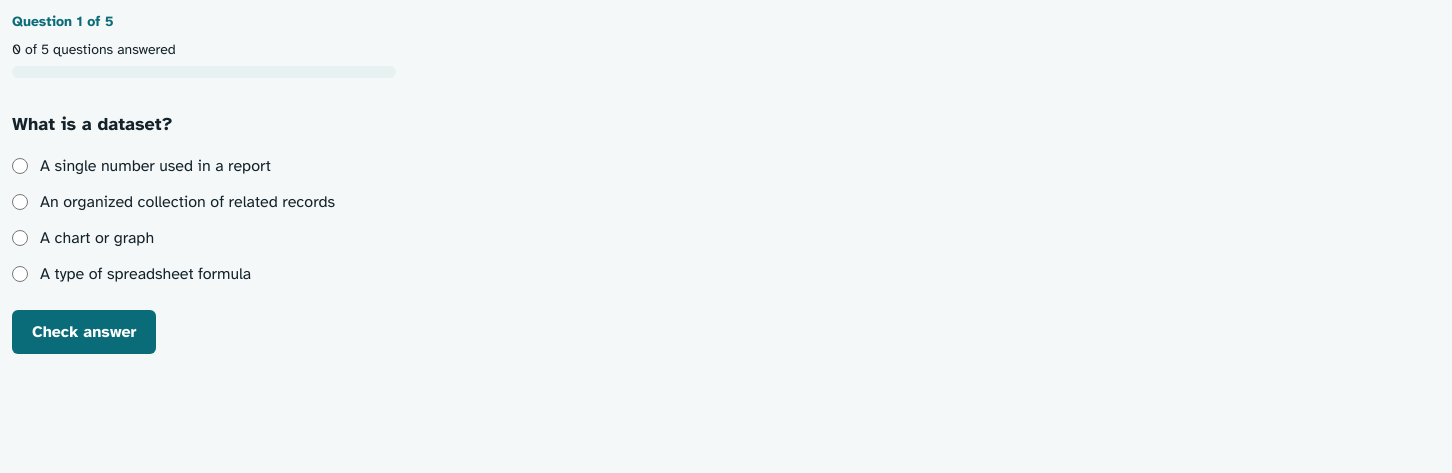
Test: Quiz behavior › shows incorrect feedback for a wrong answer
Step 1. Click the radio button labelled "A single number used in a report" → (20, 166), box [12, 158, 28, 174]
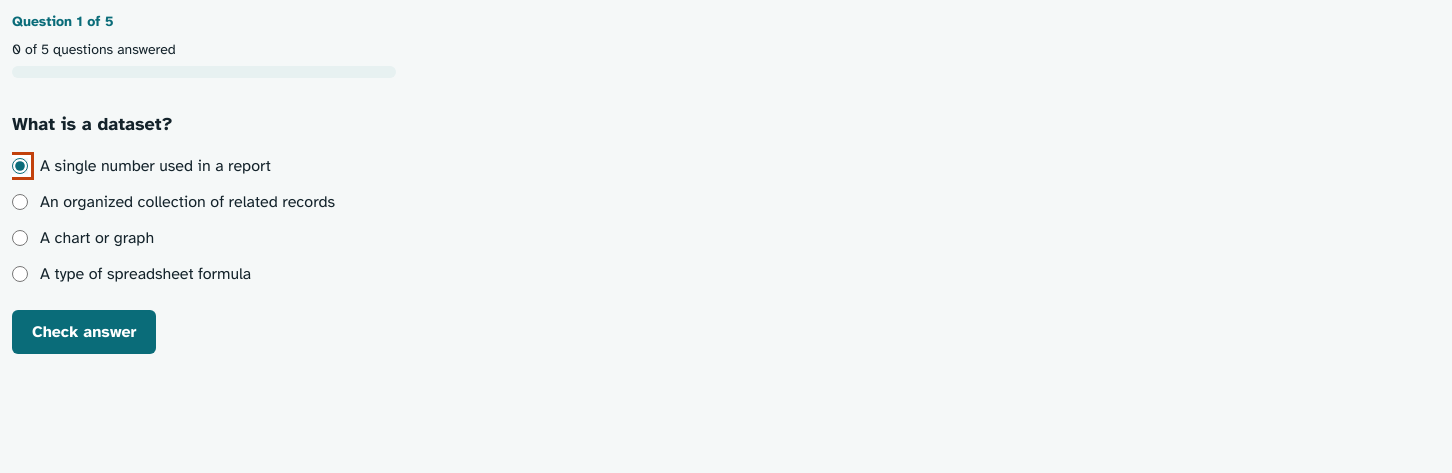
Step 2. Click the button "Check answer" → (84, 332), box [12, 310, 156, 354]
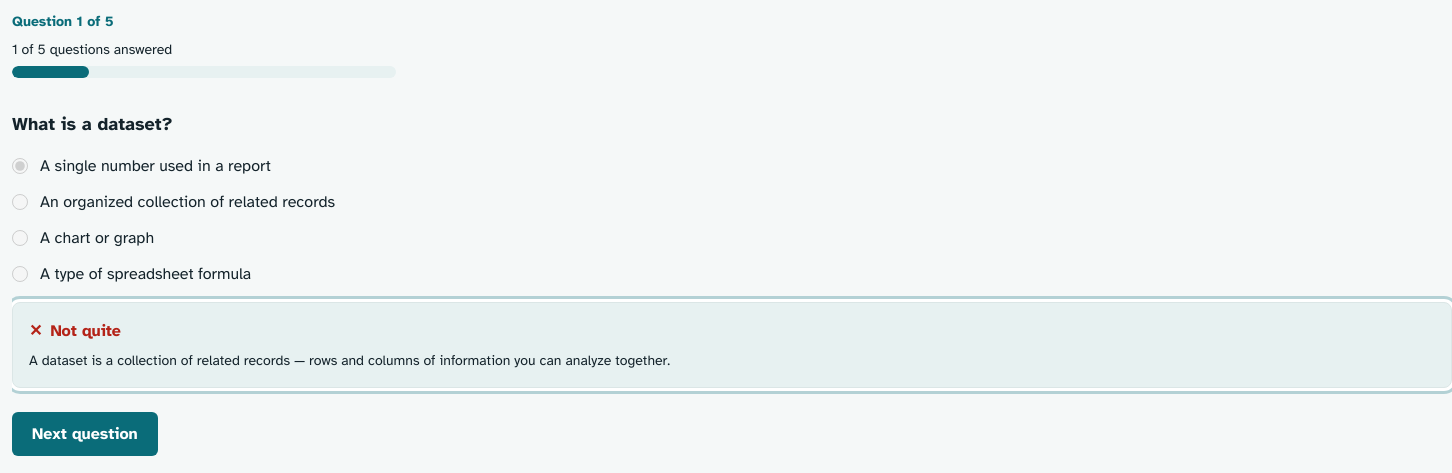
Expected: the text "Not quite" is shown, [50, 321, 121, 341]
